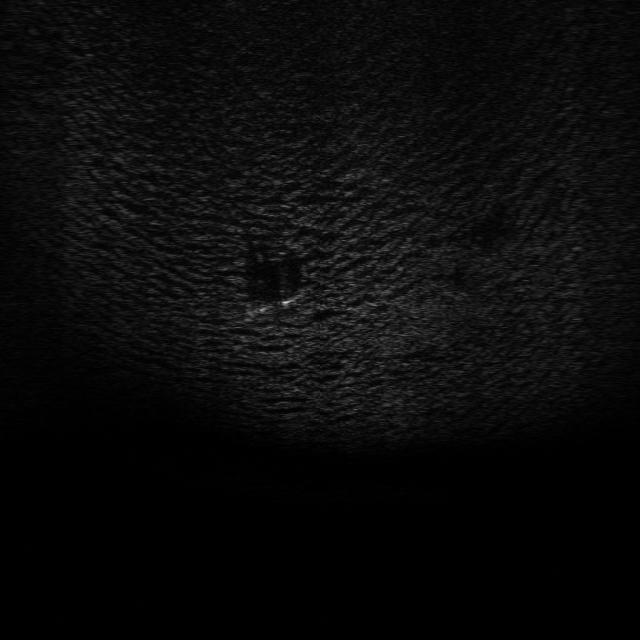plane: (241, 287, 307, 325)
